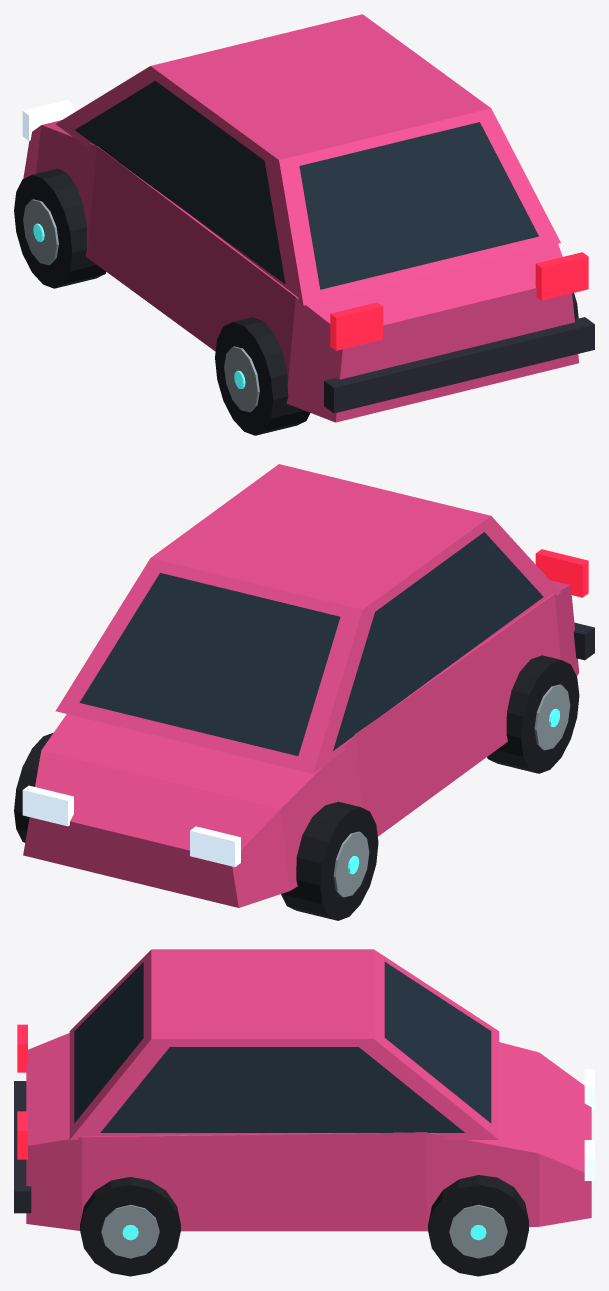
The model's file is clio.glb.
The picture shows the model from 3 angles, top to bottom: view 1: azimuth 30°, elevation 25°; view 2: azimuth 150°, elevation 25°; view 3: azimuth 270°, elevation 25°; orthographic projection. The views are drawn at different scales.
Visible parts, largest first — view 1: Hatchback body, Cabin shell, Rear window, Left window, Rear bumper, Tire, Tire.001, Tail lamp, Tail lamp.001, Wheel rim, Wheel rim.001, Headlamp; view 2: Hatchback body, Cabin shell, Windshield, Left window, Tire, Tire.001, Tail lamp, Wheel rim.001, Wheel rim, Headlamp.001, Headlamp, Tire.002 (+1 smaller); view 3: Hatchback body, Cabin shell, Right window, Windshield, Rear window, Tire.002, Tire.003, Wheel rim.002, Wheel rim.003, Rear bumper, Tail lamp.001, Tail lamp (+1 smaller).
Part boxes in pixels (x1,y1,x2,y2): Hatchback body: (23, 120, 579, 422); Cabin shell: (55, 14, 560, 305); Rear window: (299, 122, 538, 289); Left window: (75, 80, 285, 284); Rear bumper: (324, 317, 594, 413); Tire: (14, 168, 106, 288); Tire.001: (215, 317, 310, 435); Tail lamp: (330, 302, 383, 350); Tail lamp.001: (535, 252, 588, 300); Wheel rim: (23, 199, 58, 265); Wheel rim.001: (224, 346, 259, 412); Headlamp: (22, 100, 73, 140); Hatchback body: (23, 580, 579, 907); Cabin shell: (55, 464, 560, 773); Windshield: (79, 573, 340, 755); Left window: (333, 532, 543, 750); Tire: (281, 801, 378, 920); Tire.001: (487, 655, 579, 773); Tail lamp: (535, 549, 588, 597); Wheel rim.001: (534, 684, 570, 750); Wheel rim: (333, 831, 369, 897); Headlamp.001: (22, 785, 73, 826); Headlamp: (190, 826, 240, 866); Tire.002: (14, 732, 53, 842); Hatchback body: (26, 1033, 591, 1231); Cabin shell: (69, 949, 499, 1139); Right window: (100, 1047, 464, 1132); Windshield: (384, 962, 491, 1123); Rear window: (74, 962, 143, 1123); Tire.002: (428, 1175, 528, 1276); Tire.003: (80, 1177, 180, 1276); Wheel rim.002: (449, 1204, 507, 1258); Wheel rim.003: (101, 1204, 159, 1258); Rear bumper: (14, 1081, 31, 1213); Tail lamp.001: (17, 1111, 27, 1159); Tail lamp: (17, 1024, 27, 1072).
Bounding box in the file's own units: 1.82 × 1.38 × 3.34.
